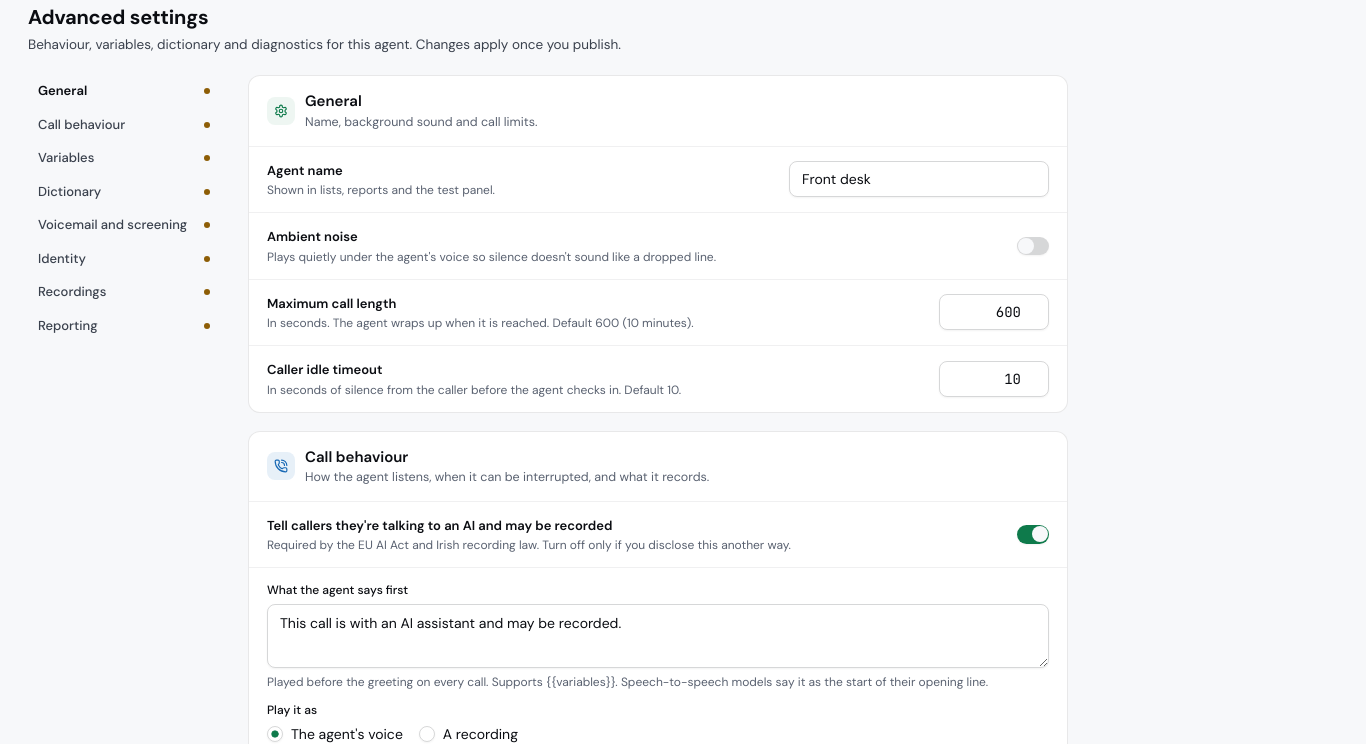
Test: Advanced settings › discards every change
The width and height of the screenshot is (1366, 744).
Step 1. Replace the text in the field labelled "Agent name" with "Reception" → (919, 179), box [789,161,1049,197]
(page scrolled)
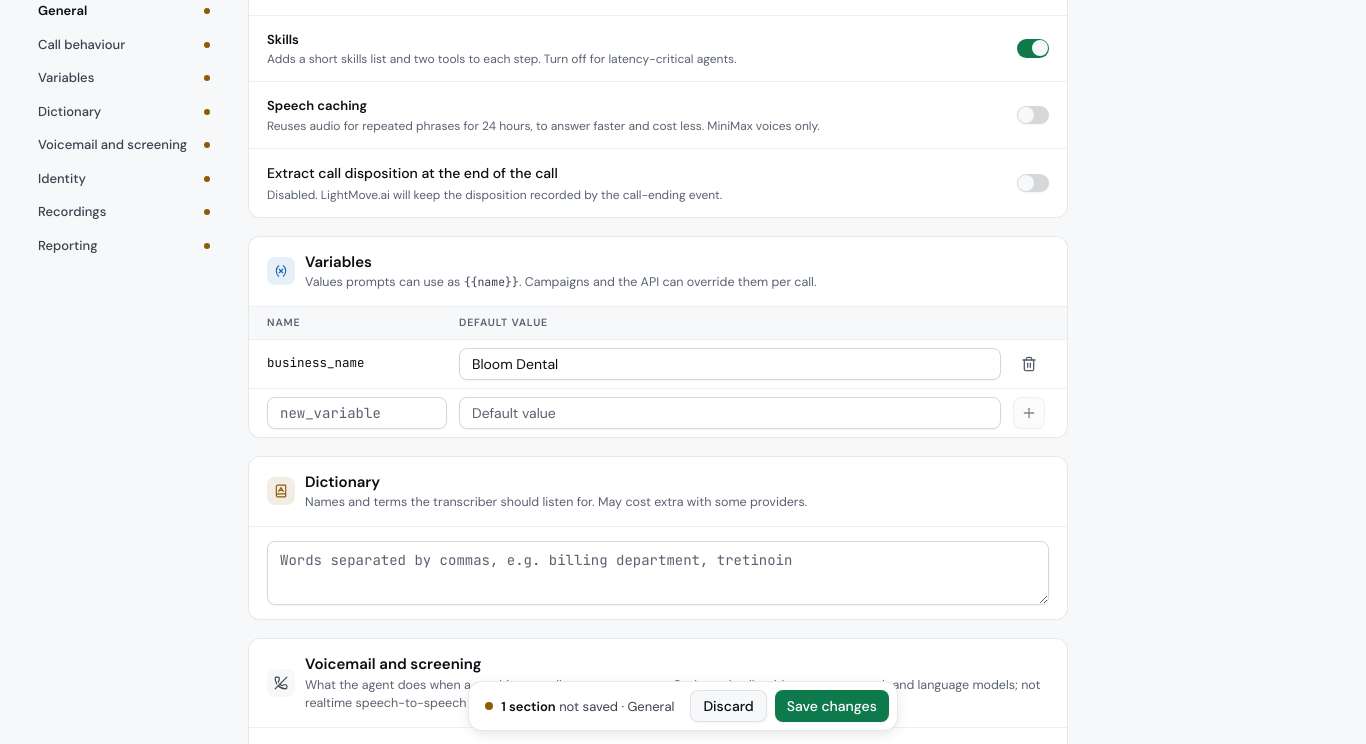
Step 2. Replace the text in the field named "Default value for business_name" with "Bloom" → (730, 364), box [459,348,1001,380]
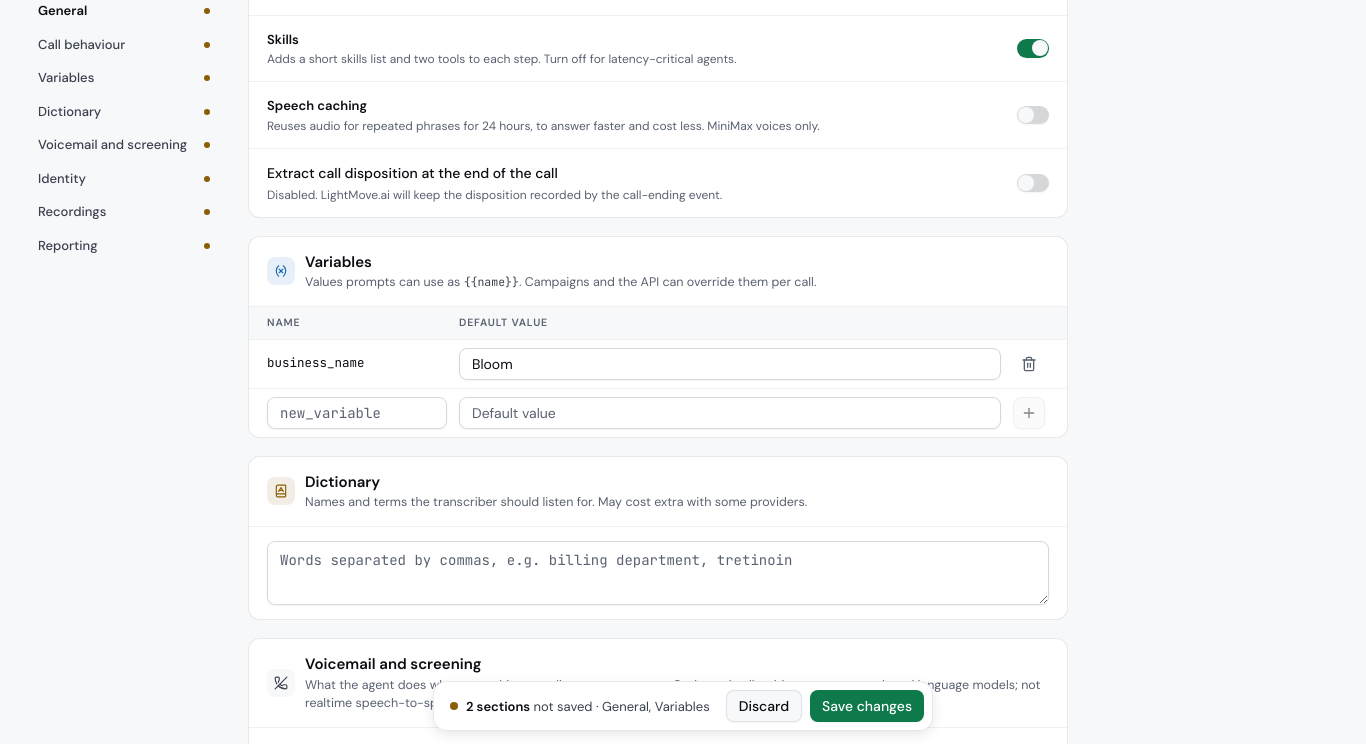
Step 3. Click the button "Discard" → (764, 706), box [726,690,802,722]
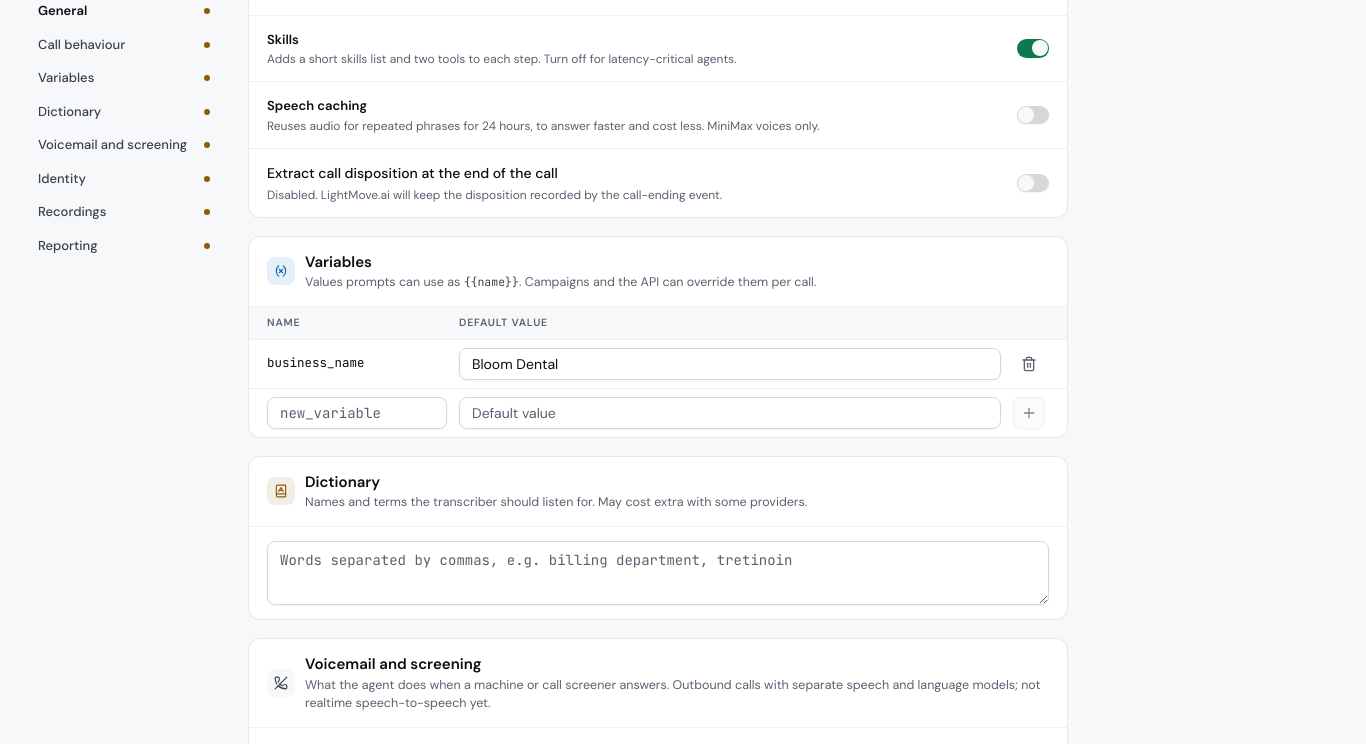
Now the field named "Default value for business_name" holds "Bloom Dental", box [459,348,1001,380]
Now the button "Save changes" is gone
